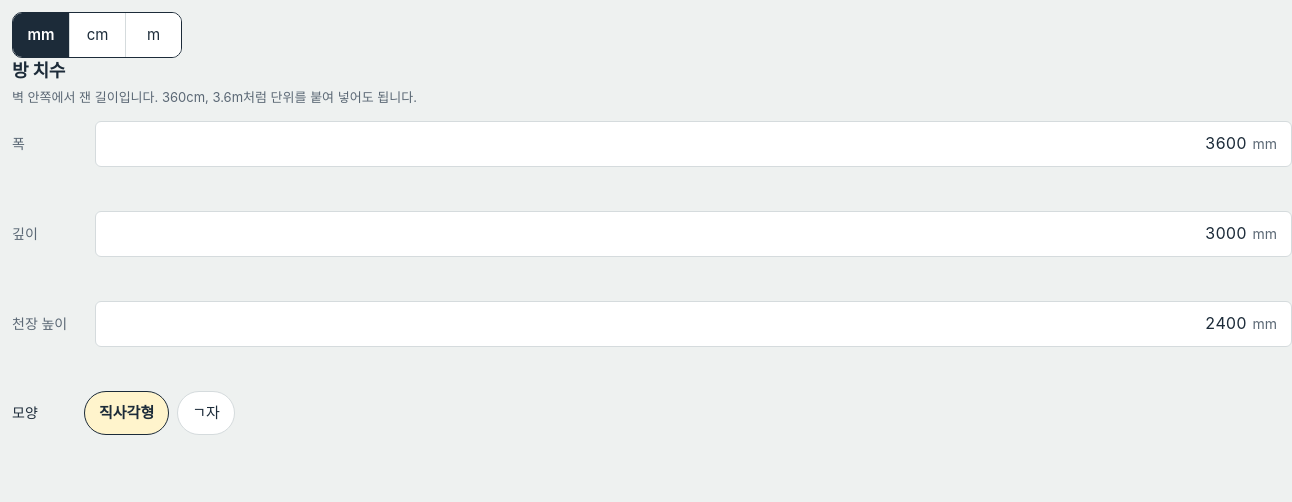
it: RoomPanel › R-5 room-depth: 999, 1000, 15000, 15001이 모두 반영되고 999와 15001일 때만 경고가 보인다
This screenshot has width=1292, height=502.
Replace the text in the field with test id "room-depth" with "999" at (674, 234), box [96,212,1252,256]
Press Enter
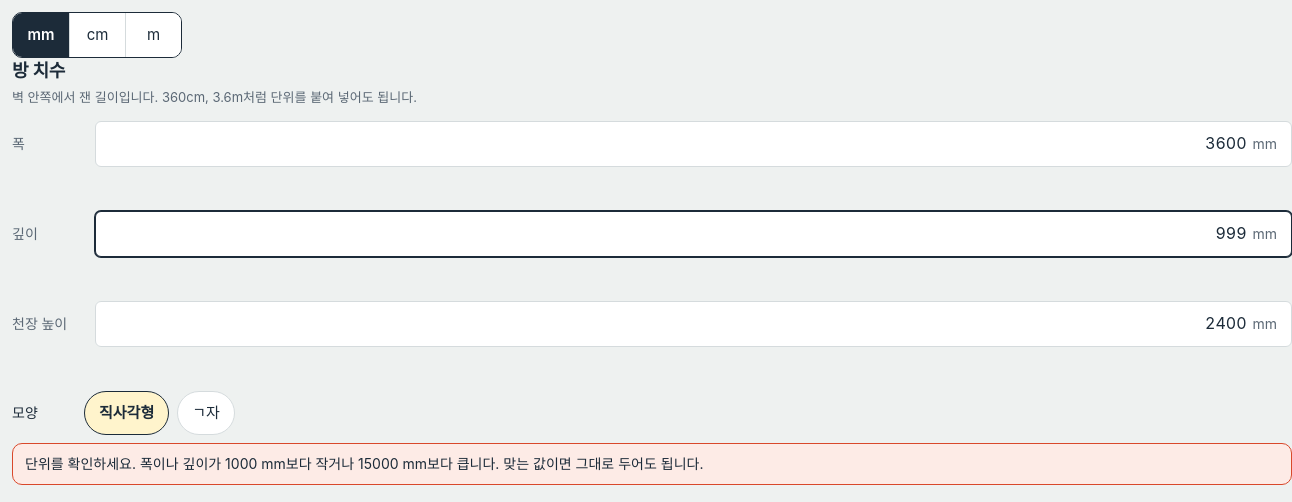
Now the message with test id "room-unit-warning" shows "단위를 확인하세요", box [25,455,225,472]
Replace the text in the field with test id "room-depth" with "1000" at (674, 234), box [96,212,1252,256]
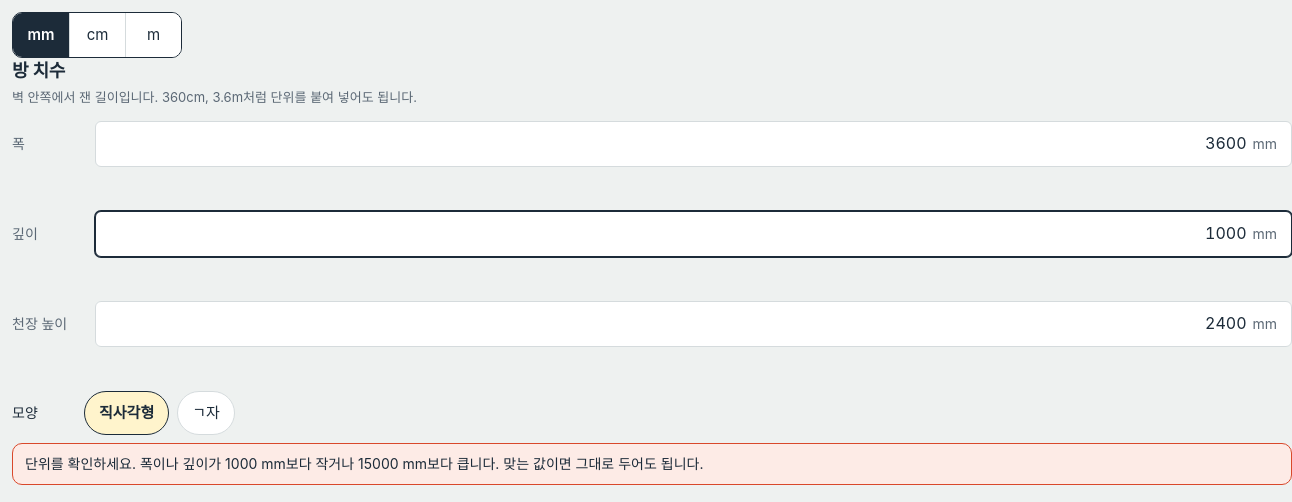
Press Enter
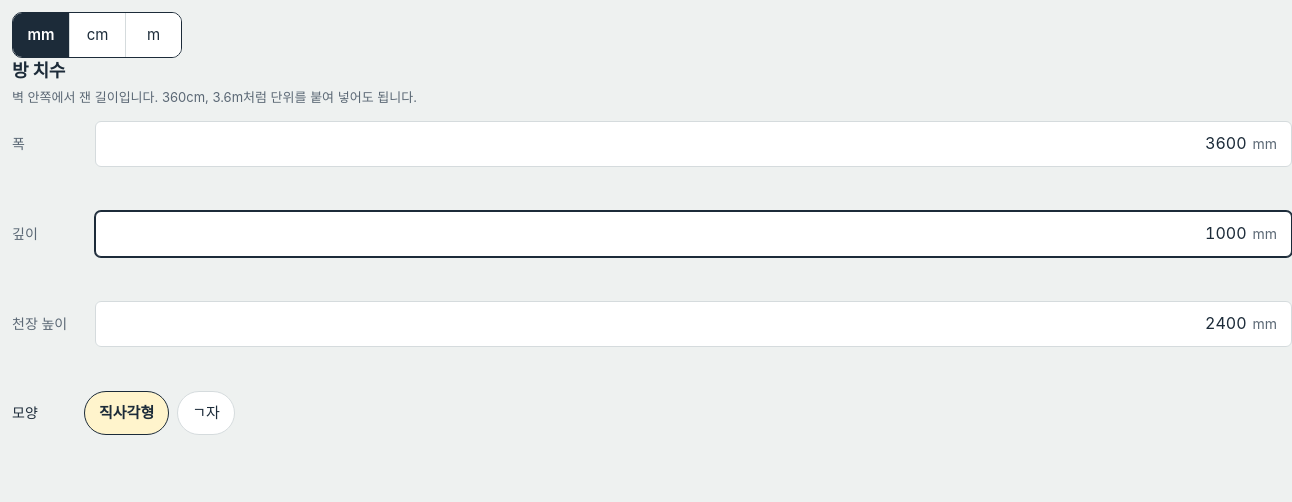
Now the message with test id "room-unit-warning" is gone
Replace the text in the field with test id "room-depth" with "15000" at (674, 234), box [96,212,1252,256]
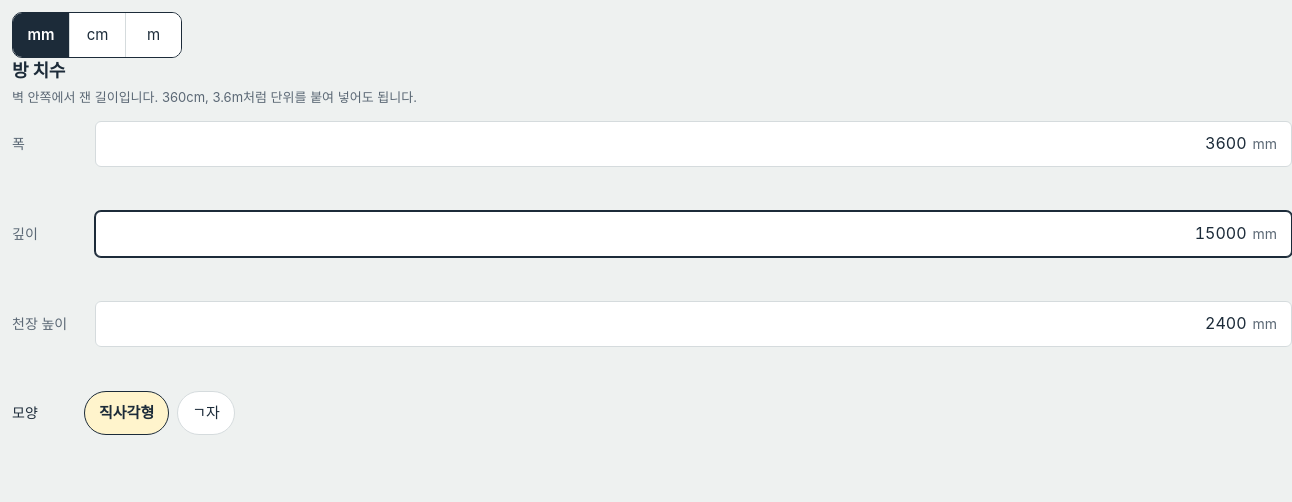
Press Enter
Replace the text in the field with test id "room-depth" with "15001" at (674, 234), box [96,212,1252,256]
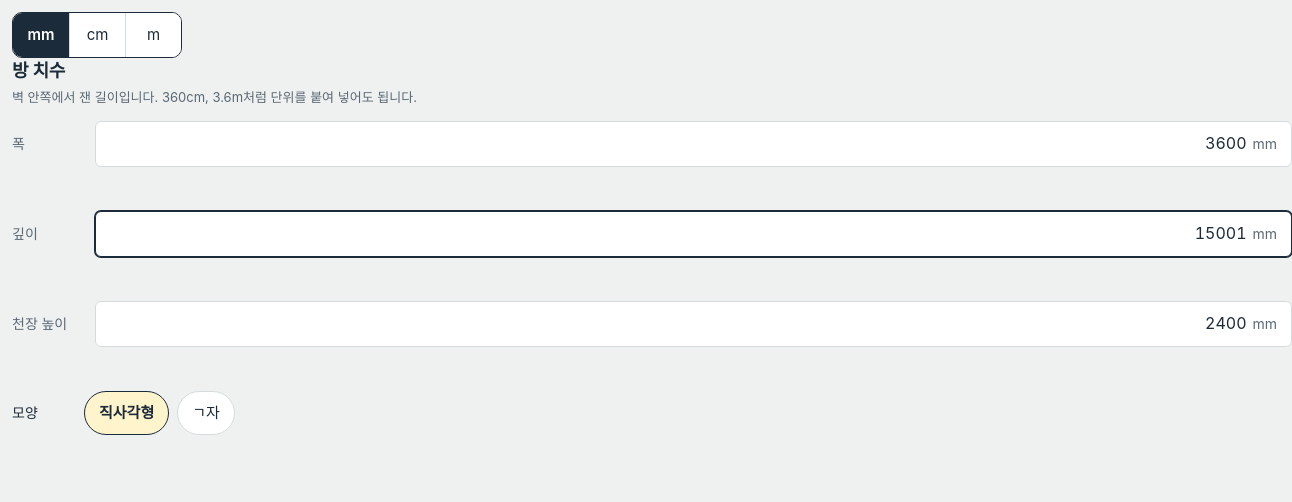
Press Enter
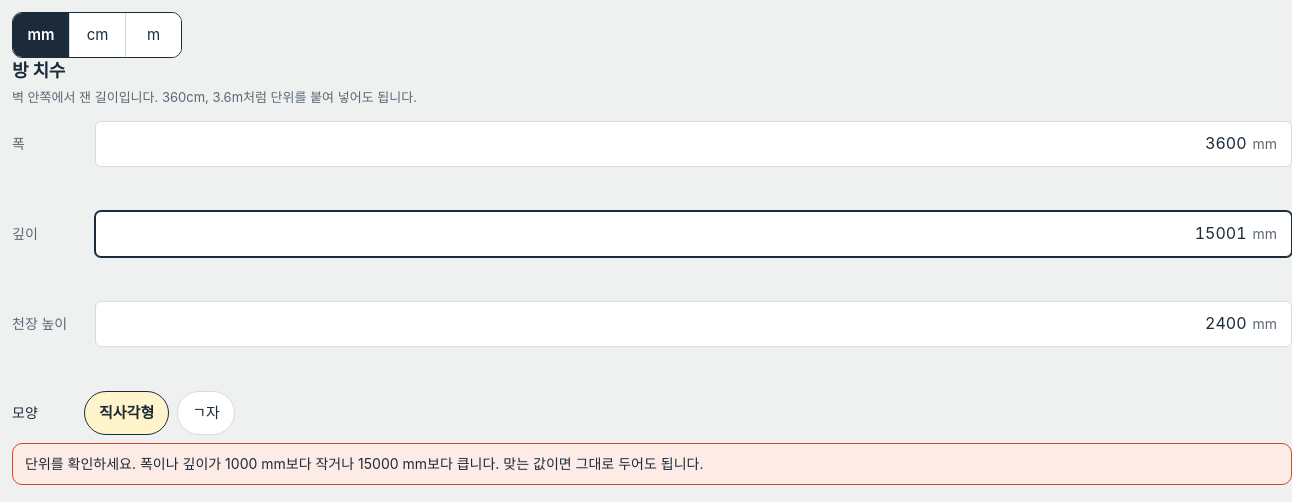
Now the message with test id "room-unit-warning" shows "단위를 확인하세요", box [25,455,225,472]
